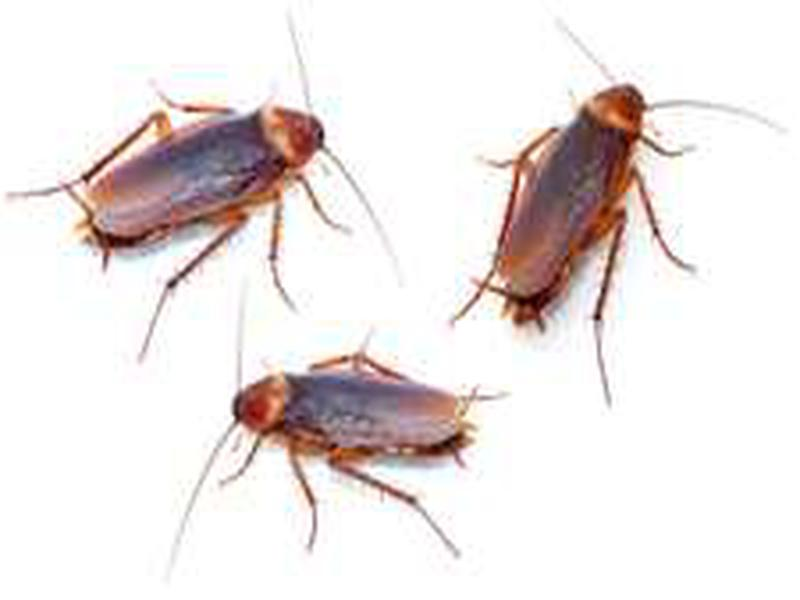Grasshopper: (187, 321, 492, 514), (61, 89, 355, 284), (464, 73, 677, 330)
